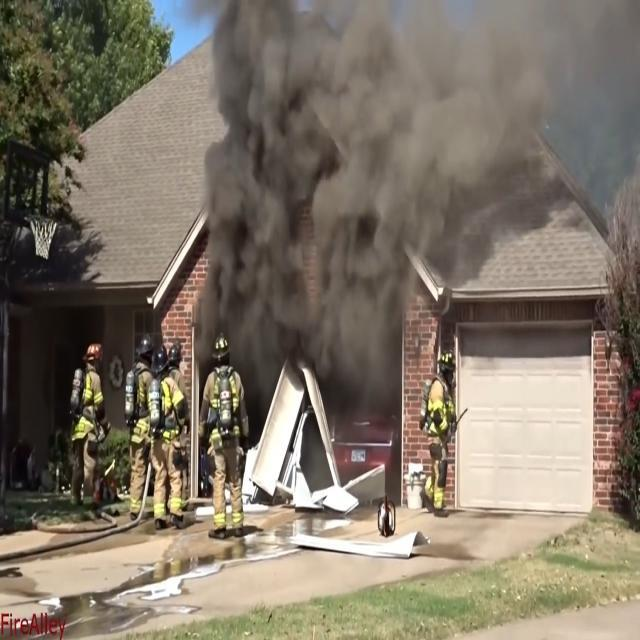Smoke: (204, 13, 414, 398)
